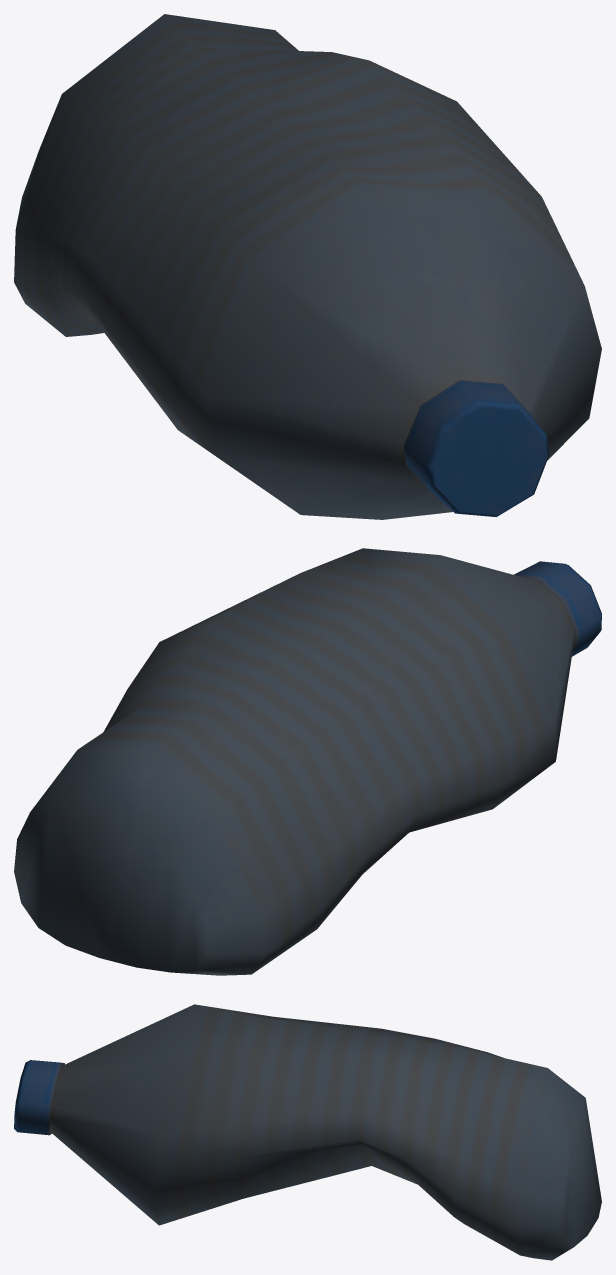
The model's file is SM_Water_Bottle_C.fbx.
The picture shows the model from 3 angles, top to bottom: view 1: azimuth 30°, elevation 25°; view 2: azimuth 150°, elevation 25°; view 3: azimuth 270°, elevation 25°; orthographic projection. The views are drawn at different scales.
Visible parts, largest first — view 1: SM_Water_Bottle_C; view 2: SM_Water_Bottle_C; view 3: SM_Water_Bottle_C.
Boxes of the visible parts, box(x1,y1,x2,y2) form: SM_Water_Bottle_C: box(14, 14, 601, 519); SM_Water_Bottle_C: box(14, 548, 601, 975); SM_Water_Bottle_C: box(14, 1004, 601, 1260).
Bounding box in the file's own units: 15.94 × 11.73 × 32.37.
